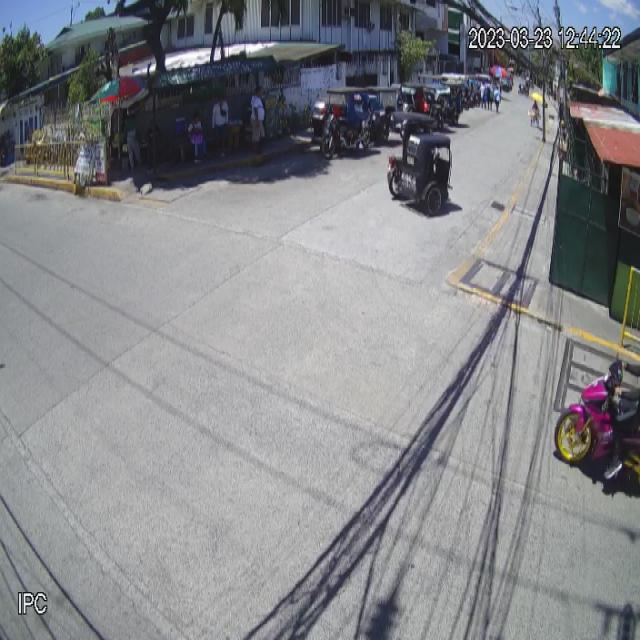Tricycle: (386, 111, 453, 215)
